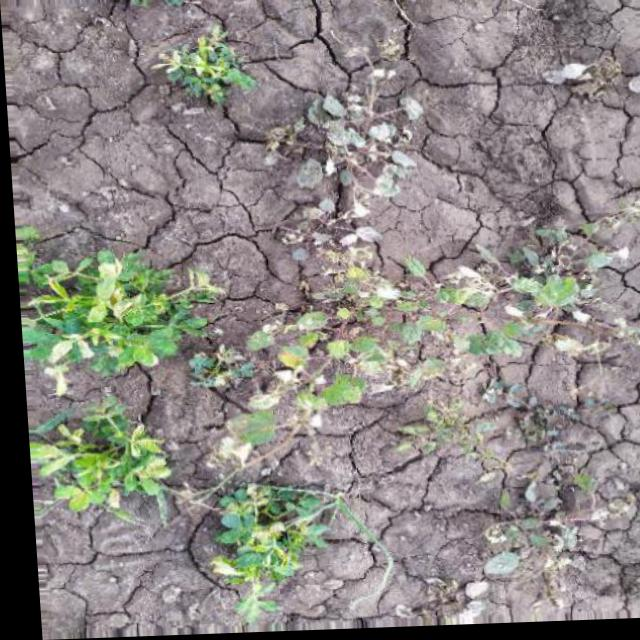weed: (210, 280, 598, 443), (13, 225, 202, 396), (183, 471, 354, 635), (23, 402, 181, 527), (131, 20, 266, 118)
